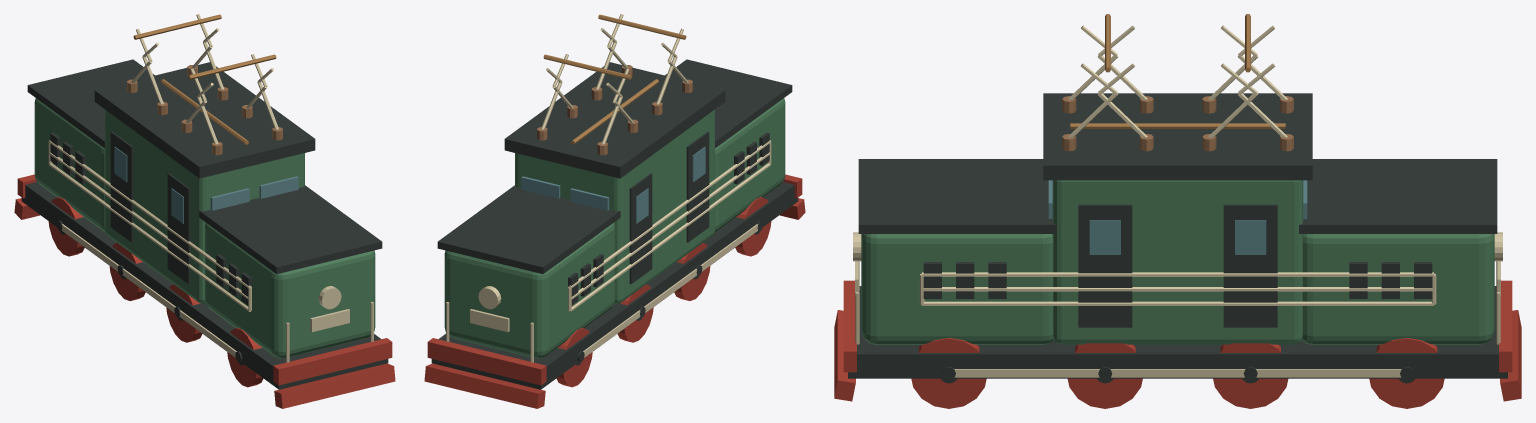
Rendered from nord-el-1_lod0.glb.
3 renders of one model, left to right at view 1: azimuth 30°, elevation 25°; view 2: azimuth 150°, elevation 25°; view 3: azimuth 270°, elevation 25°, orthographic. The views are drawn at different scales.
Parts seen in each view (by area): view 1: RF_El1_CabRoof, RF_El1_Hood.001, RF_El1_Cab, RF_El1_HoodTop.001, RF_El1_Chassis, RF_El1_Hood, RF_El1_HoodTop, RF_El1_BufferBeam.001, RF_El1_Plow.001, RF_El1_CabDoor.002, RF_El1_CabDoor.001, RF_El1_RunningRod.001 (+16 smaller); view 2: RF_El1_CabRoof, RF_El1_Hood, RF_El1_Cab, RF_El1_HoodTop, RF_El1_Chassis, RF_El1_Hood.001, RF_El1_HoodTop.001, RF_El1_BufferBeam, RF_El1_Plow, RF_El1_CabDoor.001, RF_El1_CabDoor.002, RF_El1_RunningRod.001 (+16 smaller); view 3: RF_El1_Cab, RF_El1_CabRoof, RF_El1_Hood.001, RF_El1_Hood, RF_El1_Chassis, RF_El1_HoodTop.001, RF_El1_HoodTop, RF_El1_CabDoor.003, RF_El1_CabDoor, RF_El1_RunningRod, RF_El1_Wheel.002, RF_El1_Wheel (+18 smaller).
Boxes of the visible parts, box(x1,y1,x2,y2) form: RF_El1_CabRoof: box(94, 62, 315, 178); RF_El1_Hood.001: box(205, 223, 375, 358); RF_El1_Cab: box(105, 109, 304, 303); RF_El1_HoodTop.001: box(199, 185, 382, 273); RF_El1_Chassis: box(21, 182, 388, 389); RF_El1_Hood: box(34, 98, 104, 231); RF_El1_HoodTop: box(27, 59, 154, 148); RF_El1_BufferBeam.001: box(273, 338, 392, 385); RF_El1_Plow.001: box(274, 363, 395, 408); RF_El1_CabDoor.002: box(110, 131, 133, 242); RF_El1_CabDoor.001: box(167, 173, 190, 284); RF_El1_RunningRod.001: box(61, 224, 236, 357); RF_El1_CabRoof: box(504, 62, 725, 178); RF_El1_Hood: box(444, 223, 614, 358); RF_El1_Cab: box(515, 109, 714, 303); RF_El1_HoodTop: box(437, 185, 620, 273); RF_El1_Chassis: box(431, 182, 798, 389); RF_El1_Hood.001: box(715, 98, 785, 231); RF_El1_HoodTop.001: box(665, 59, 792, 148); RF_El1_BufferBeam: box(427, 338, 546, 385); RF_El1_Plow: box(424, 363, 545, 408); RF_El1_CabDoor.001: box(686, 131, 709, 242); RF_El1_CabDoor.002: box(629, 173, 652, 284); RF_El1_RunningRod.001: box(583, 224, 758, 357); RF_El1_Cab: box(1052, 180, 1303, 344); RF_El1_CabRoof: box(1043, 93, 1312, 180); RF_El1_Hood.001: box(861, 234, 1053, 344); RF_El1_Hood: box(1302, 234, 1494, 344); RF_El1_Chassis: box(848, 286, 1507, 378); RF_El1_HoodTop.001: box(858, 159, 1056, 233); RF_El1_HoodTop: box(1299, 159, 1497, 233); RF_El1_CabDoor.003: box(1078, 204, 1132, 327); RF_El1_CabDoor: box(1223, 204, 1277, 327); RF_El1_RunningRod: box(954, 369, 1401, 377); RF_El1_Wheel.002: box(911, 338, 986, 408); RF_El1_Wheel: box(1369, 338, 1444, 408).
Bounding box in the file's own units: 3.18 × 6.87 × 12.76.
